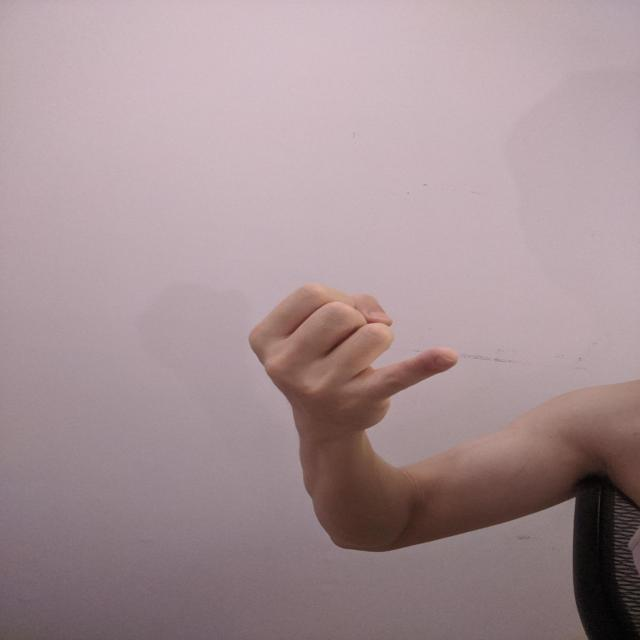J: (242, 274, 469, 437)
